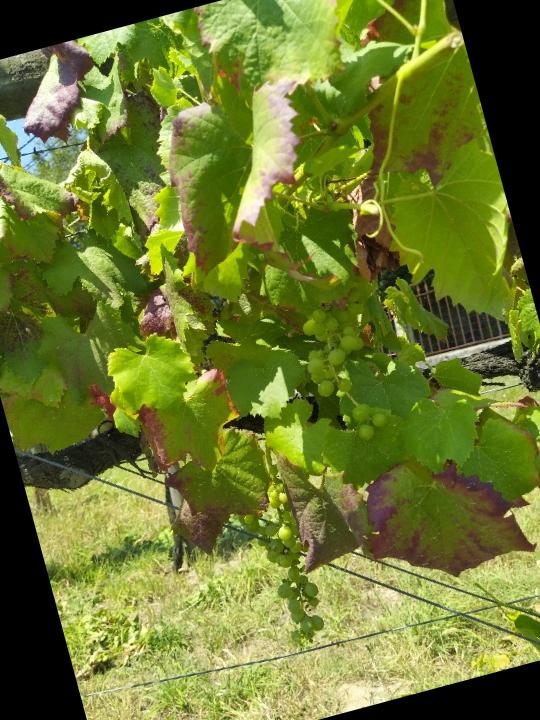grape: (225, 475, 343, 658), (287, 298, 395, 456)
